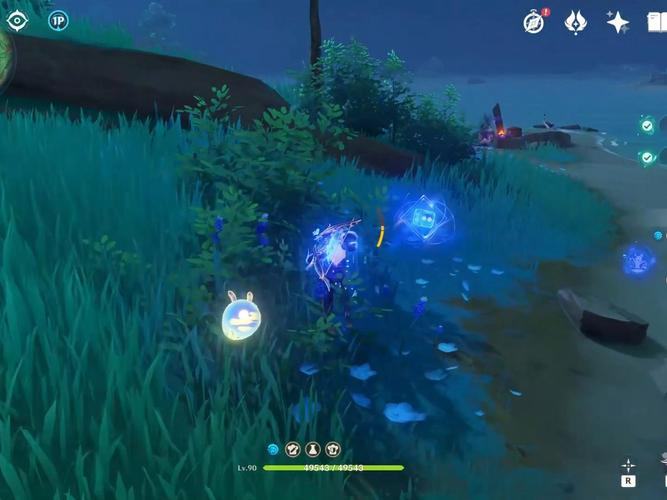夜兰: (305, 213, 373, 328)
